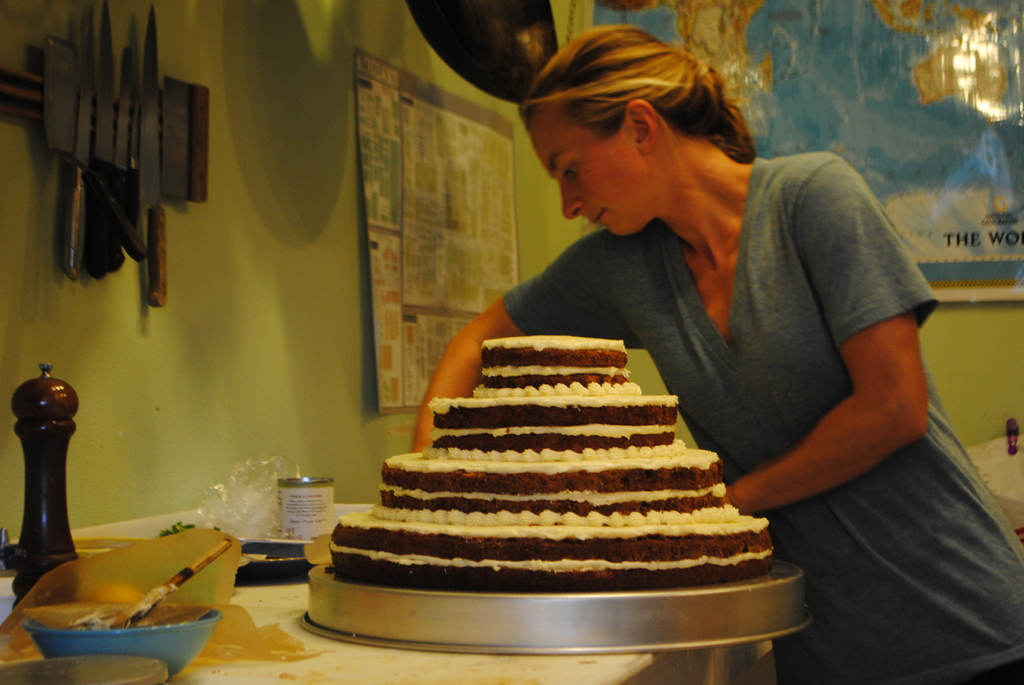cake: (325, 334, 770, 588)
